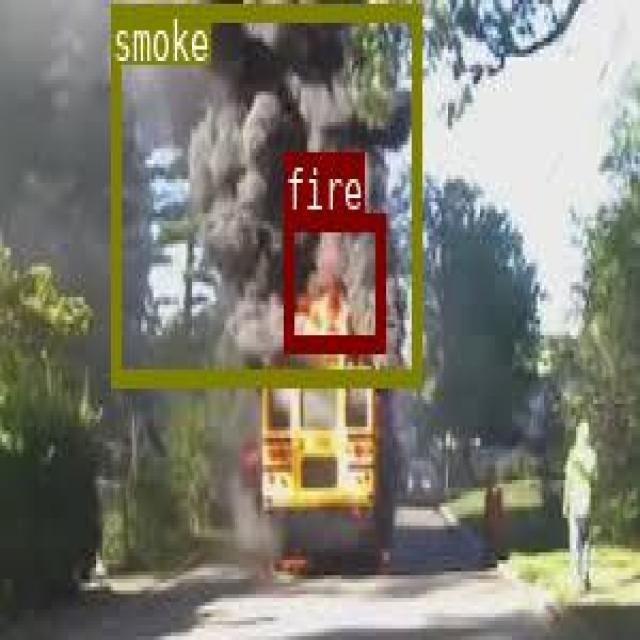fire: (282, 211, 383, 350)
smoke: (110, 3, 418, 381)
